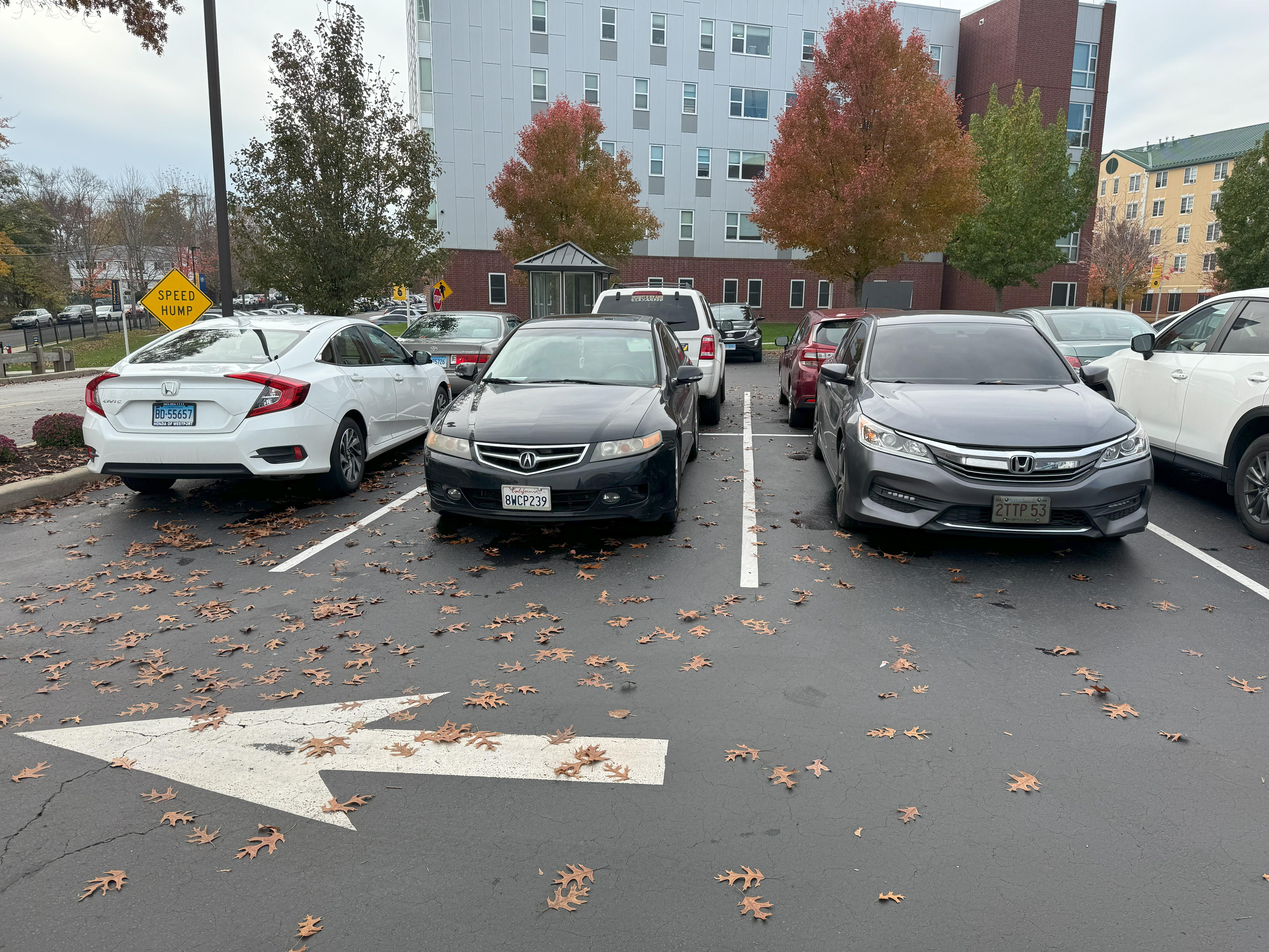occupied: (796, 307, 1152, 613), (72, 309, 420, 510), (449, 325, 695, 545), (1171, 280, 1262, 535)
